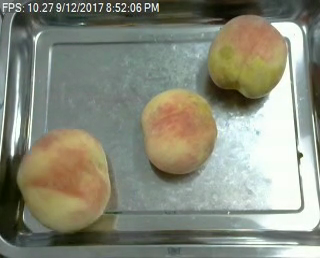Peach: (17, 126, 111, 232), (207, 14, 288, 98), (140, 88, 216, 174)
